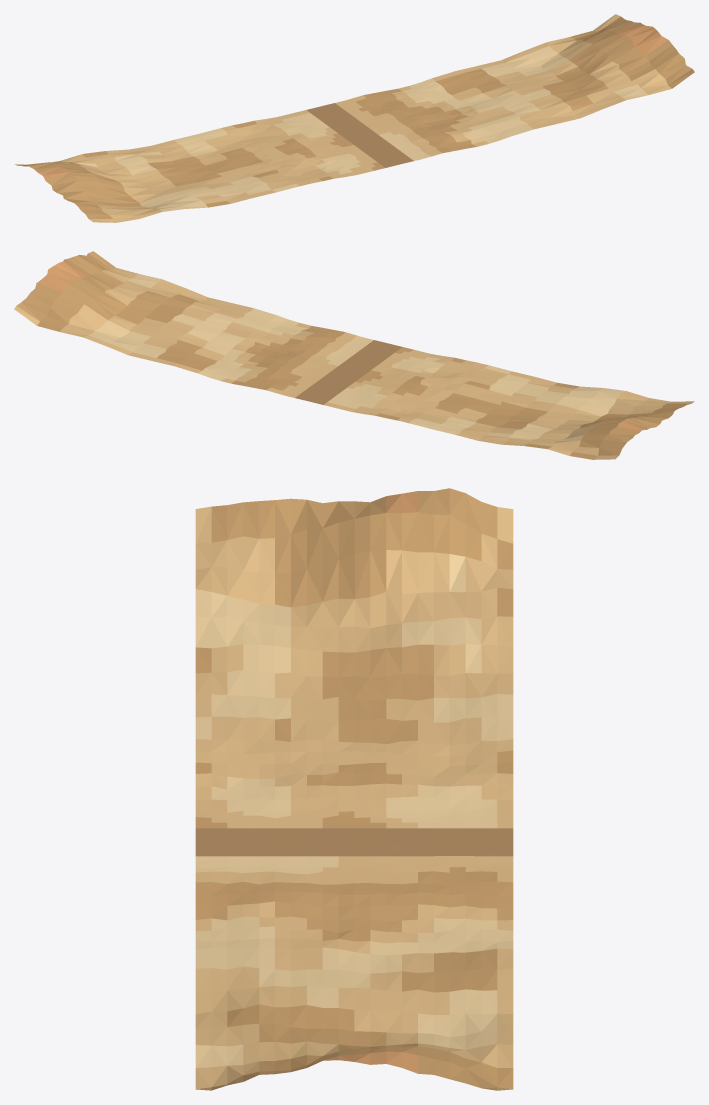
The model's file is SM_TerrainTile_C.fbx.
3 renders of one model, top to bottom at view 1: azimuth 30°, elevation 25°; view 2: azimuth 150°, elevation 25°; view 3: azimuth 270°, elevation 25°, orthographic. The views are drawn at different scales.
Visible parts, largest first — view 1: TerrainTile_C; view 2: TerrainTile_C; view 3: TerrainTile_C.
Part boxes in pixels (x1,y1,x2,y2): TerrainTile_C: [14, 14, 694, 222]; TerrainTile_C: [14, 251, 694, 459]; TerrainTile_C: [195, 488, 513, 1090].
Size of the model in its own units: 26404 by 6000 by 1525.
